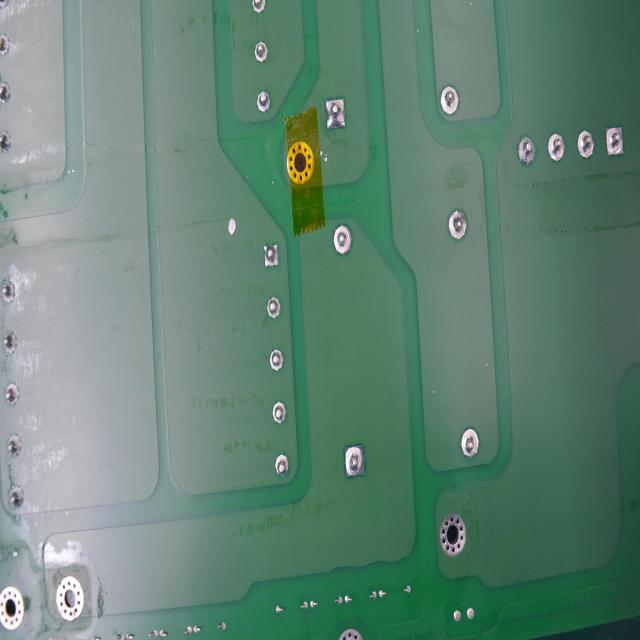spillover: (226, 217, 240, 236), (320, 148, 329, 164)
